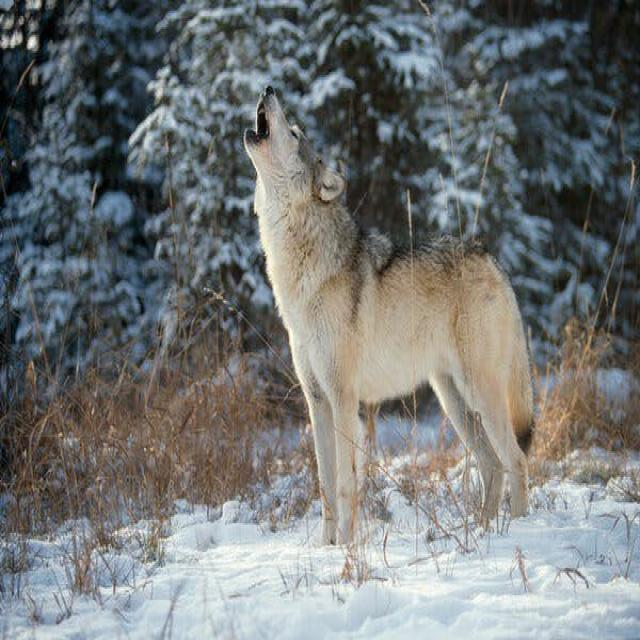Wolf: (242, 83, 536, 547)
